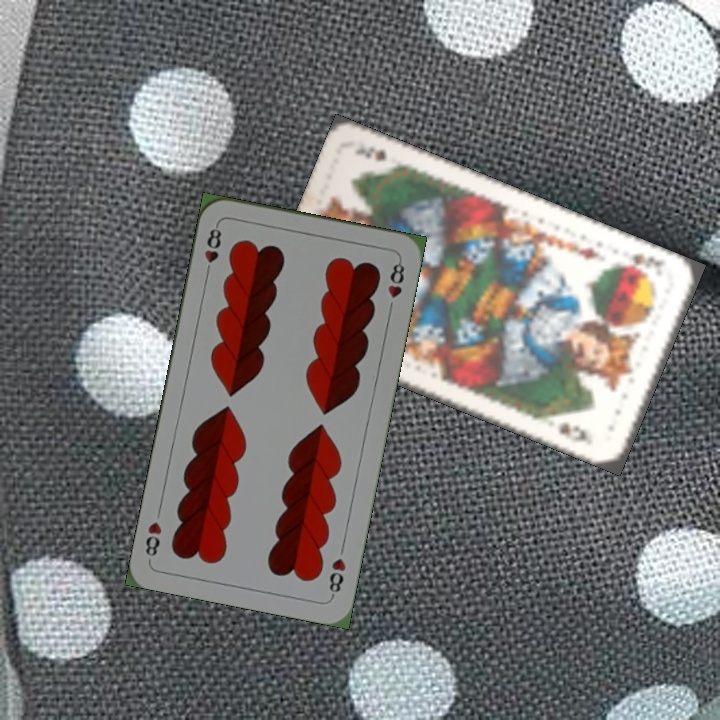H8: (200, 220, 224, 279), (325, 554, 349, 600)
SK: (615, 248, 668, 278)
